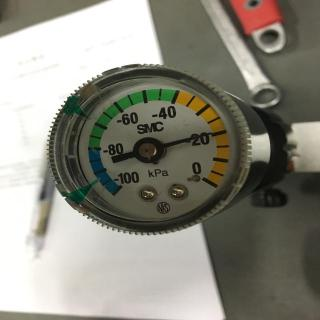gauge: (45, 60, 256, 242), (186, 158, 222, 196), (133, 136, 165, 164), (106, 177, 128, 199), (206, 130, 213, 136)
